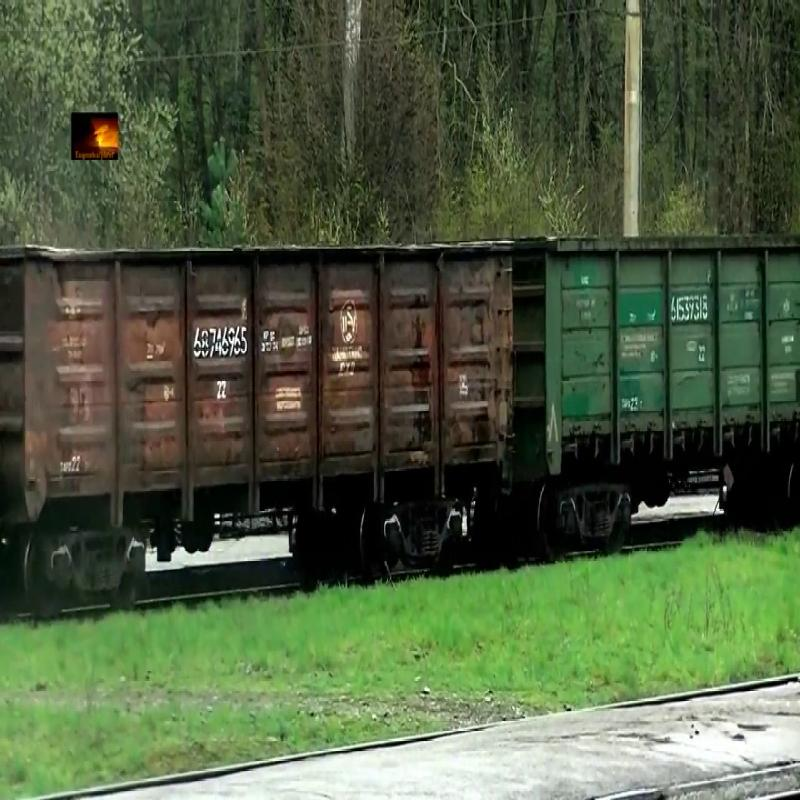train: (1, 238, 514, 526), (516, 234, 800, 474)
